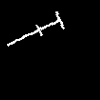double_crochet: (7, 12, 63, 45)
